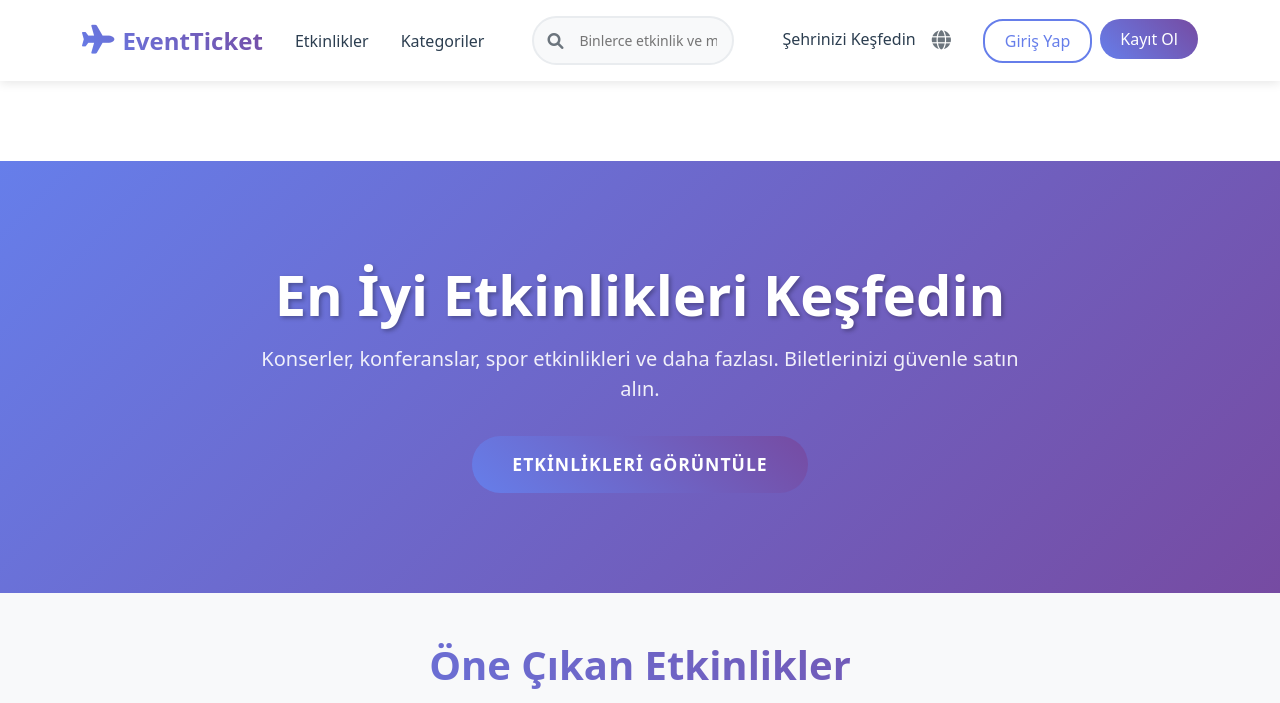
Scenario: Event Ticket App User Flow › should navigate to login page
What coordinates should you click on to do the following:
click the button "Giriş Yap"
I would click on:
 (1038, 41)
Its box is top-left (983, 19), bottom-right (1092, 63).
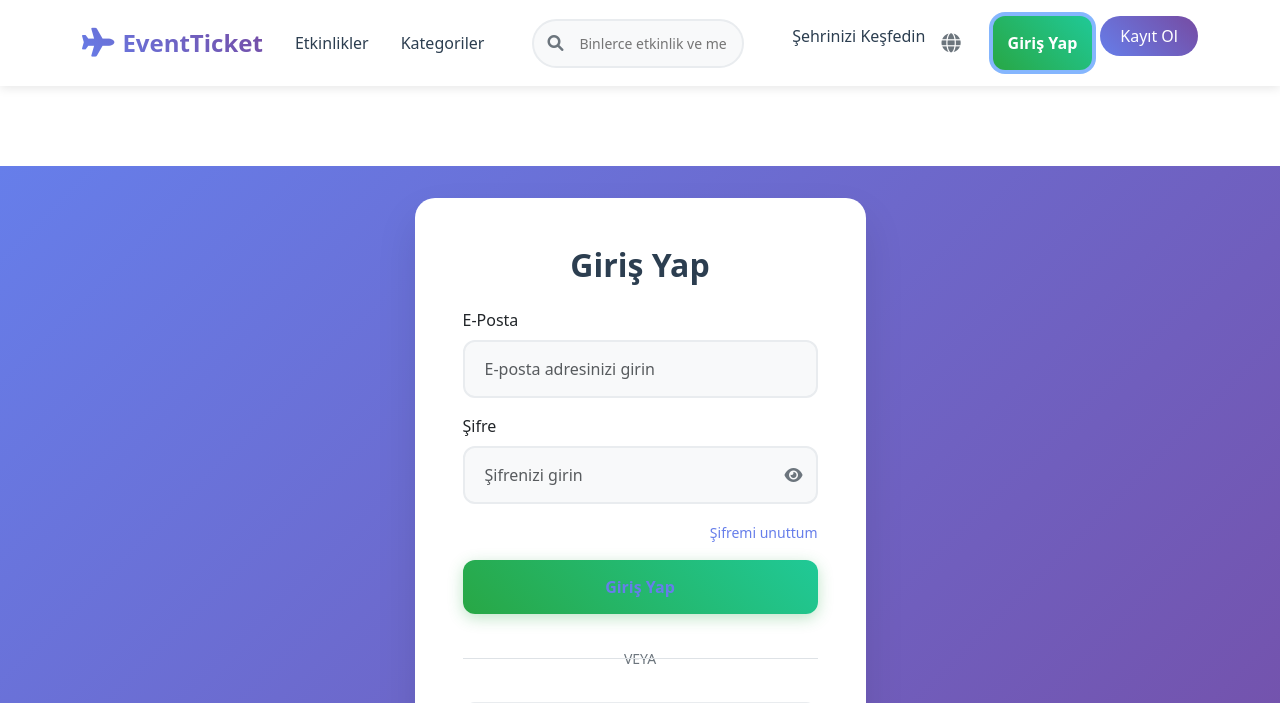
Expected: the 1st button "Giriş Yap" is shown, top-left (993, 16), bottom-right (1092, 70)
Expected: the field with placeholder "E-posta adresinizi girin" is shown, top-left (462, 340), bottom-right (818, 398)
Expected: the password field with placeholder "Şifrenizi girin" is shown, top-left (462, 446), bottom-right (818, 504)
